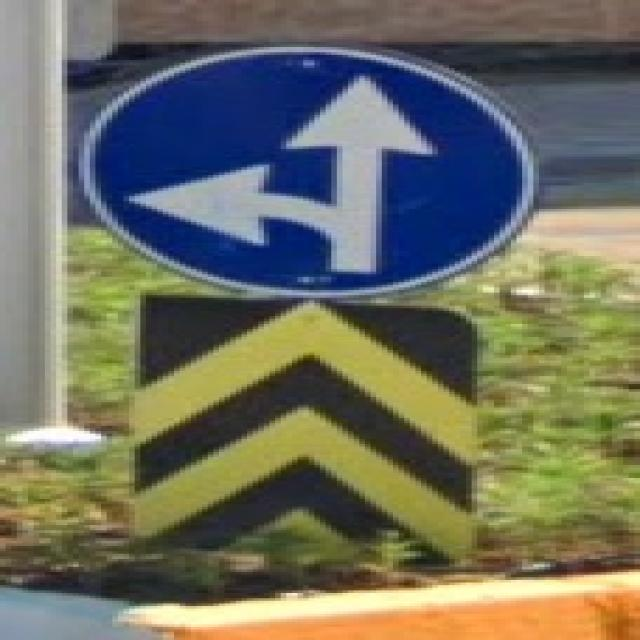Straight or Left: (83, 47, 537, 295)
